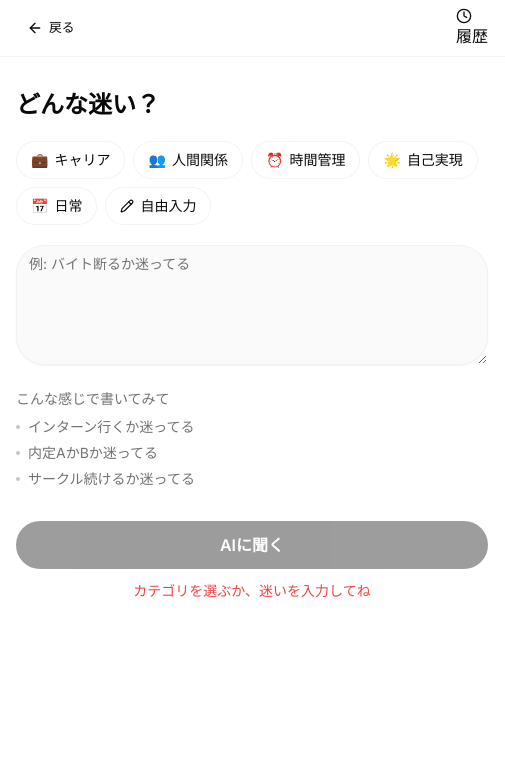
Scenario: InputPage 追加テスト › カテゴリ選択後の表示 › カテゴリ選択時に「または自分の言葉で入力」が表示される
Click the button "💼 キャリア".
click(71, 160)  # box x1=16 y1=141 x2=126 y2=179
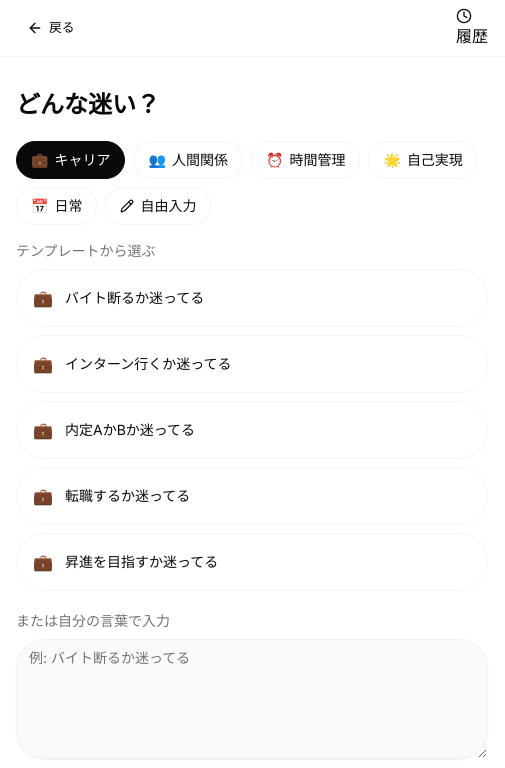
Expected: the text "または自分の言葉で入力" is shown, x1=16 y1=612 x2=170 y2=629
